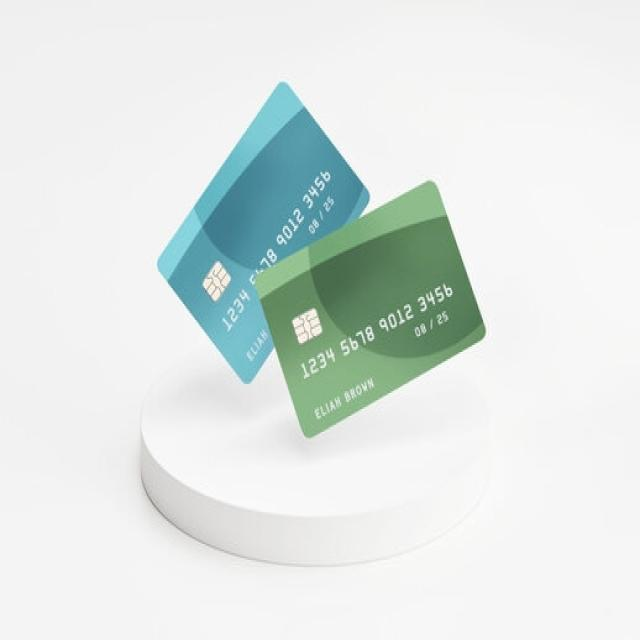payment_card: (155, 79, 371, 384), (252, 178, 486, 438)
